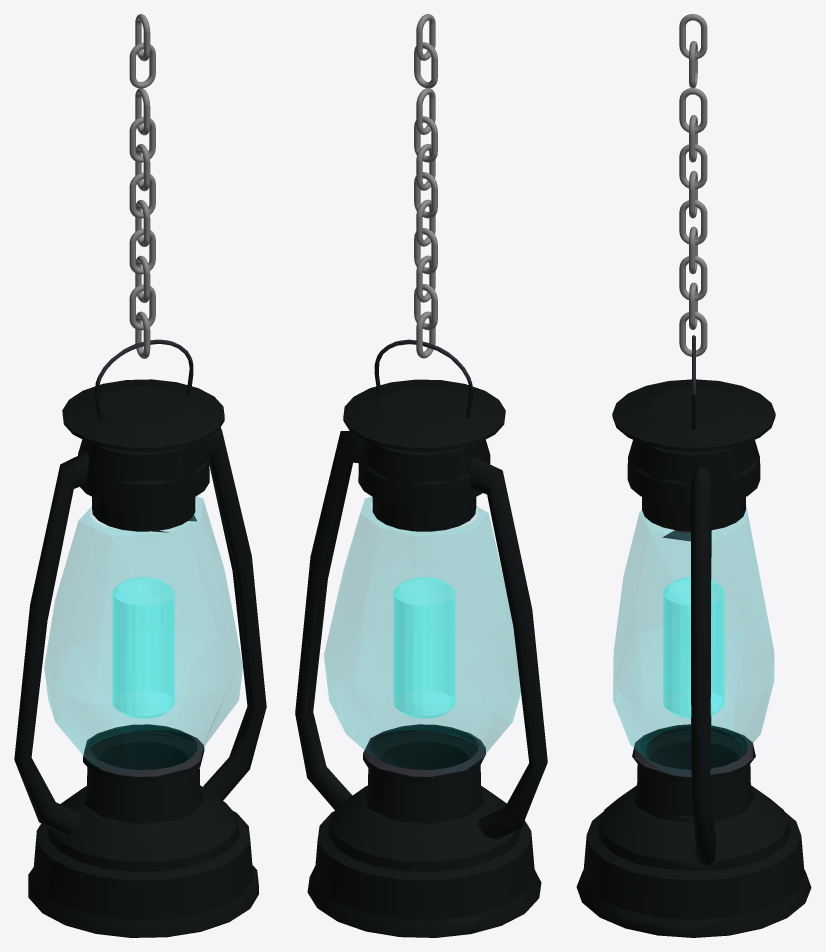
Rendered from lantern.fbx.
3 views of the same model, side by side, from view 1: azimuth 30°, elevation 25°; view 2: azimuth 150°, elevation 25°; view 3: azimuth 270°, elevation 25° (orthographic).
Parts seen in each view (by area): view 1: Oil_lamp_02:Lid_01_Lid_02, pasted__pCylinder1, pasted__pasted__Sweep_2; view 2: Oil_lamp_02:Lid_01_Lid_02, pasted__pCylinder1, pasted__pasted__Sweep_2; view 3: Oil_lamp_02:Lid_01_Lid_02, pasted__pasted__Sweep_2, pasted__pCylinder1.
Boxes of the visible parts, <box> form: Oil_lamp_02:Lid_01_Lid_02: <box>14,339,266,937</box>; pasted__pCylinder1: <box>112,577,174,718</box>; pasted__pasted__Sweep_2: <box>129,14,155,358</box>; Oil_lamp_02:Lid_01_Lid_02: <box>295,339,547,937</box>; pasted__pCylinder1: <box>393,577,455,718</box>; pasted__pasted__Sweep_2: <box>414,14,437,358</box>; Oil_lamp_02:Lid_01_Lid_02: <box>576,335,811,937</box>; pasted__pasted__Sweep_2: <box>679,14,707,356</box>; pasted__pCylinder1: <box>663,577,724,718</box>.
Bounding box in the file's own units: 3.02 × 10.06 × 2.45.
